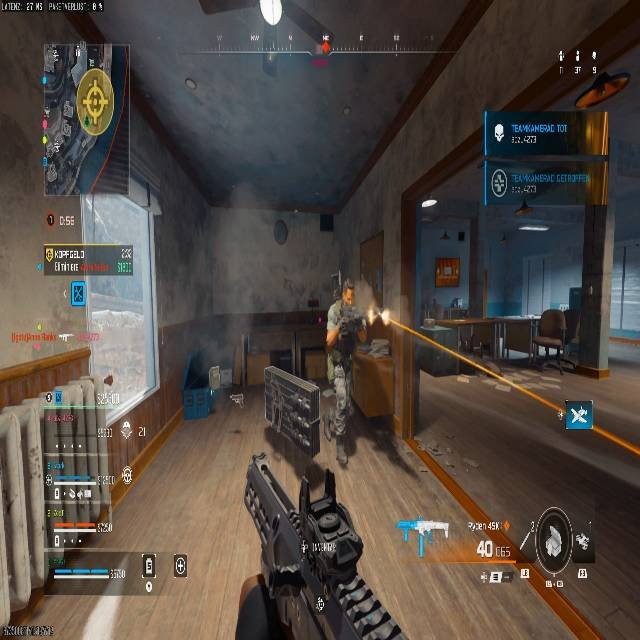player: (325, 288, 368, 408)
